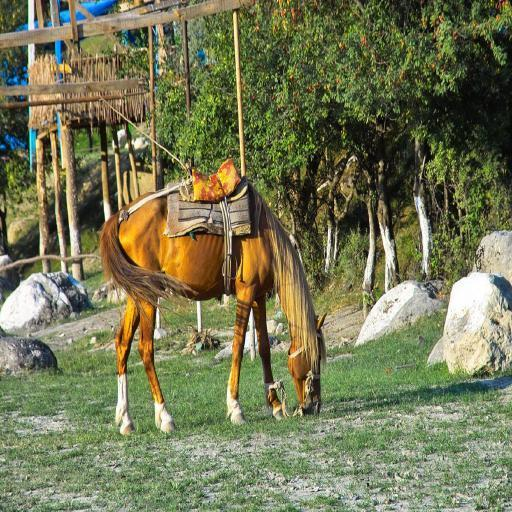Horse: (100, 175, 329, 436)
